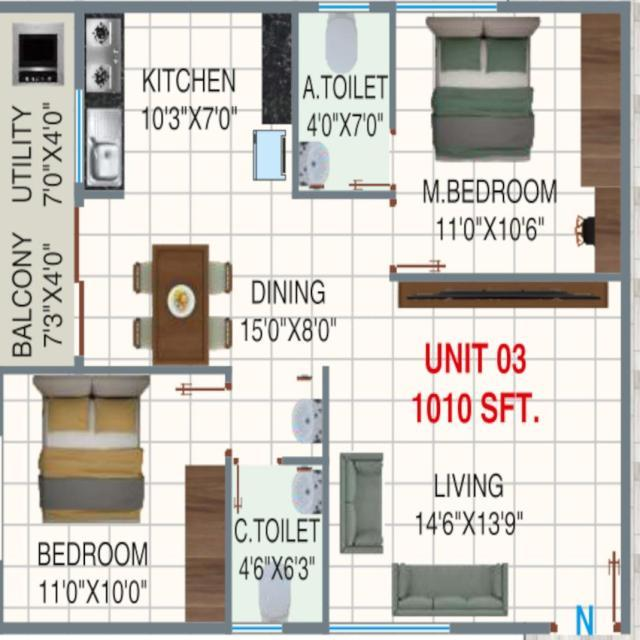Bedroom: (2, 367, 234, 634)
Bedroom with Toilet: (393, 3, 629, 277)
Dining: (130, 242, 234, 368)
Kitchen: (82, 1, 295, 197)
Living: (332, 281, 633, 637)
Toilet: (293, 0, 394, 200), (233, 458, 330, 632)
